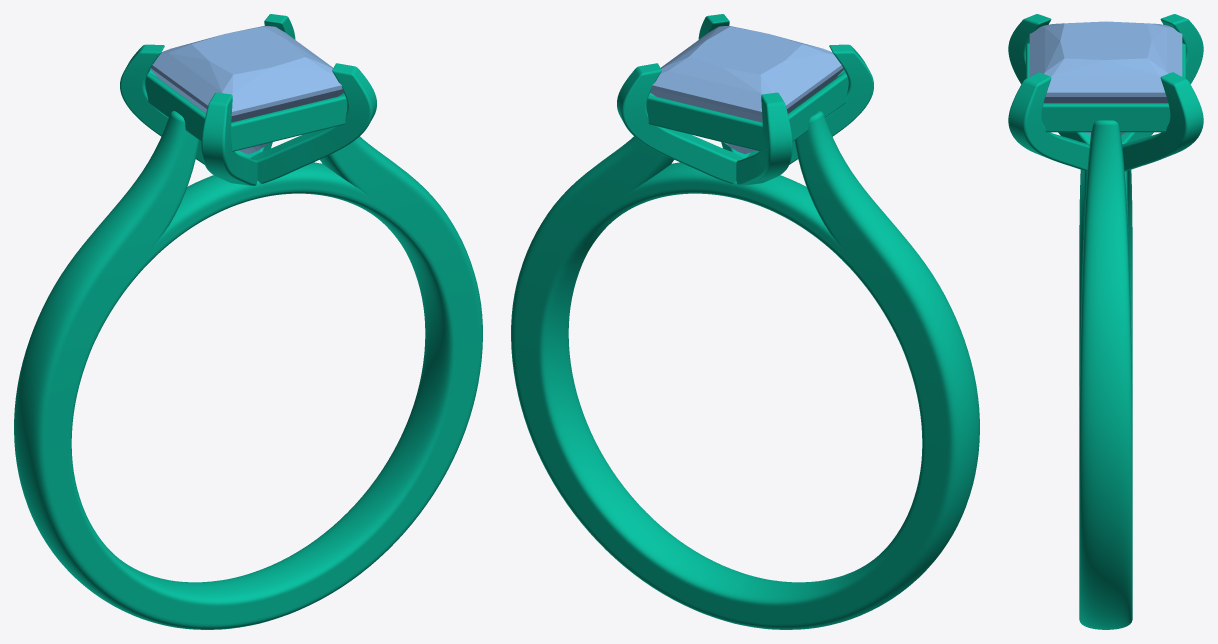
3 renders of one model, left to right at view 1: azimuth 30°, elevation 25°; view 2: azimuth 150°, elevation 25°; view 3: azimuth 270°, elevation 25°, orthographic.
Parts seen in each view (by area): view 1: JTC 7972(front).3dm, Diamond_Princess; view 2: JTC 7972(front).3dm, Diamond_Princess; view 3: JTC 7972(front).3dm, Diamond_Princess.
Boxes of the visible parts, x1,y1,x2,y2 form: JTC 7972(front).3dm: (14, 14, 482, 629); Diamond_Princess: (150, 26, 343, 154); JTC 7972(front).3dm: (511, 14, 979, 629); Diamond_Princess: (650, 26, 843, 154); JTC 7972(front).3dm: (1008, 14, 1203, 629); Diamond_Princess: (1029, 21, 1182, 135).
Bounding box in the file's own units: 2.49 × 2.98 × 0.9353.
